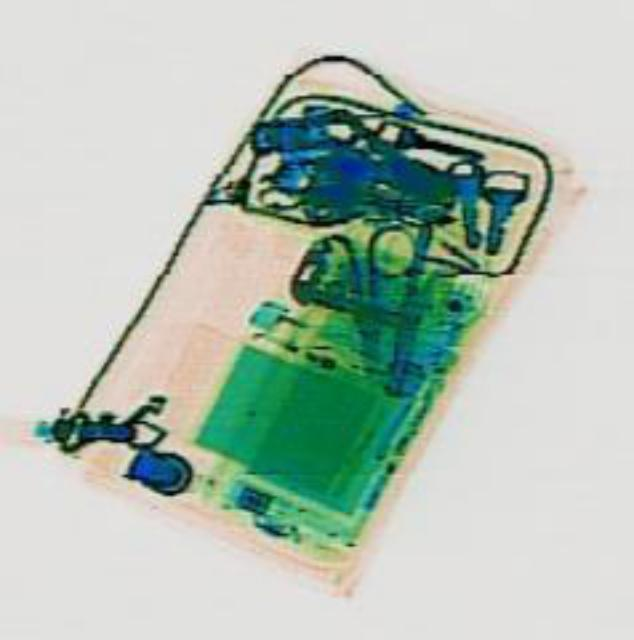Scissors: (300, 219, 424, 373)
